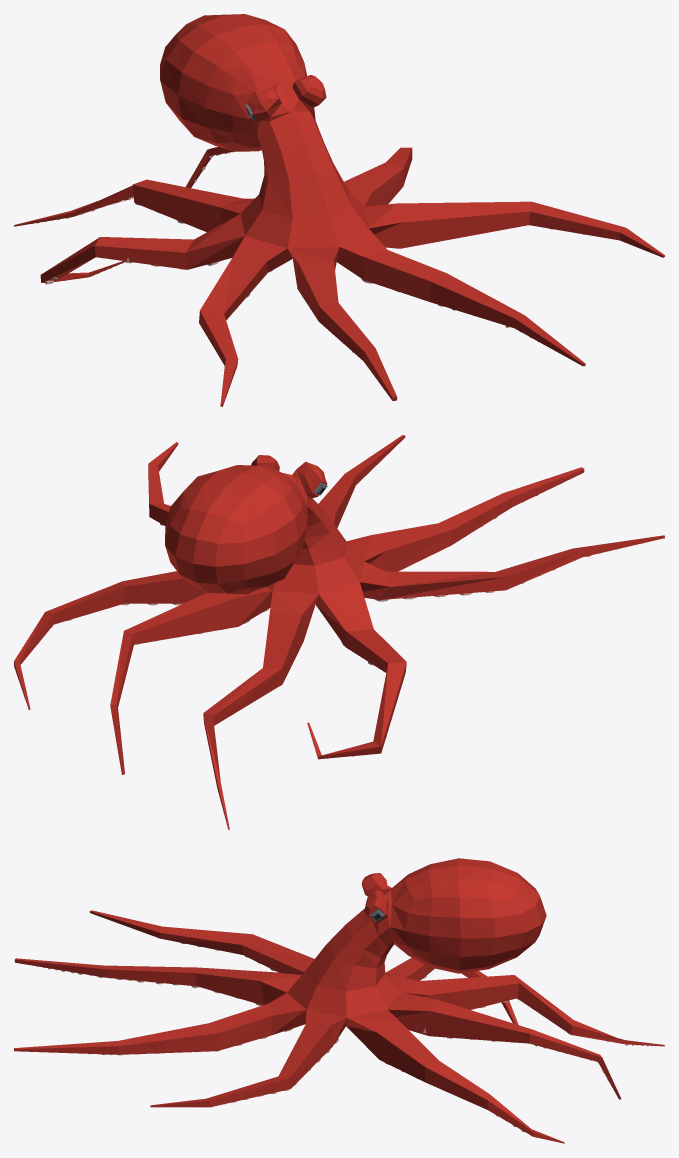
Rendered from octopus.gltf.
3 renders of one model, top to bottom at view 1: azimuth 30°, elevation 25°; view 2: azimuth 150°, elevation 25°; view 3: azimuth 270°, elevation 25°, orthographic. The views are drawn at different scales.
Parts seen in each view (by area): view 1: node-0; view 2: node-0; view 3: node-0.
Boxes of the visible parts, <box> form: node-0: <box>14,14,664,406</box>; node-0: <box>14,435,664,829</box>; node-0: <box>14,858,664,1143</box>.
Size of the model in its own units: 3.98 by 2.07 by 5.43.
